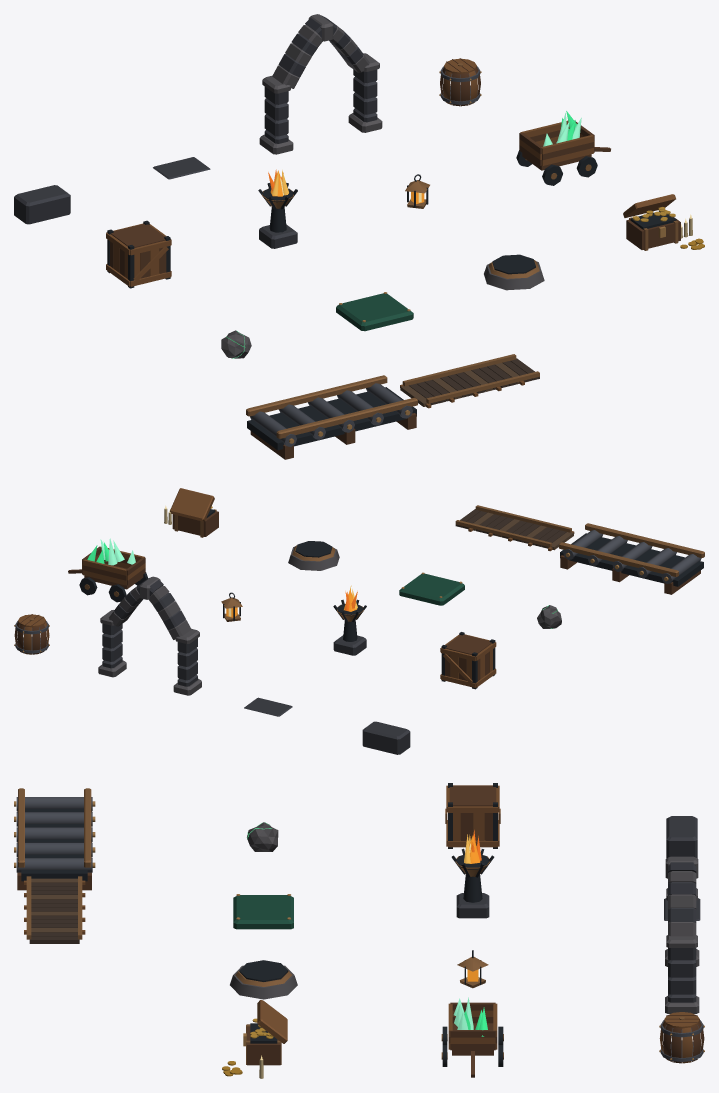
File: dungeon-model-kit.glb
The picture shows the model from 3 angles, top to bottom: view 1: azimuth 30°, elevation 25°; view 2: azimuth 150°, elevation 25°; view 3: azimuth 270°, elevation 25°; orthographic projection. The views are drawn at different scales.
Parts seen in each view (by area): view 1: iron-timber-conveyor-chassis, gothic-pointed-stone-arch, bronze-railed-snake-track, emerald-mine-cart, braced-timber-crate, brass-treasure-and-candles, jade-worker-pad, iron-crown-fire-brazier, wall-stone, coopered-ironbound-barrel, octagonal-storage-plinth, flagstone; view 2: iron-timber-conveyor-chassis, gothic-pointed-stone-arch, bronze-railed-snake-track, emerald-mine-cart, braced-timber-crate, brass-treasure-and-candles, jade-worker-pad, iron-crown-fire-brazier, wall-stone, coopered-ironbound-barrel, octagonal-storage-plinth, flagstone (+1 smaller); view 3: iron-timber-conveyor-chassis, gothic-pointed-stone-arch, bronze-railed-snake-track, braced-timber-crate, emerald-mine-cart, brass-treasure-and-candles, jade-worker-pad, iron-crown-fire-brazier, octagonal-storage-plinth, coopered-ironbound-barrel, wall-stone, green-veined-ore (+1 smaller).
Part boxes in pixels (x1,y1,x2,y2): iron-timber-conveyor-chassis: (246, 375, 417, 459); gothic-pointed-stone-arch: (259, 14, 382, 154); bronze-railed-snake-track: (400, 354, 539, 408); emerald-mine-cart: (516, 111, 610, 185); braced-timber-crate: (106, 220, 171, 288); brass-treasure-and-candles: (623, 194, 704, 250); jade-worker-pad: (336, 292, 413, 331); iron-crown-fire-brazier: (258, 169, 297, 248); wall-stone: (14, 185, 70, 224); coopered-ironbound-barrel: (439, 58, 481, 106); octagonal-storage-plinth: (484, 254, 544, 290); flagstone: (153, 157, 210, 179); iron-timber-conveyor-chassis: (559, 523, 704, 594); gothic-pointed-stone-arch: (98, 576, 201, 695); bronze-railed-snake-track: (455, 505, 574, 551); emerald-mine-cart: (68, 538, 148, 602); braced-timber-crate: (440, 632, 496, 689); brass-treasure-and-candles: (164, 488, 218, 537); jade-worker-pad: (399, 572, 464, 605); iron-crown-fire-brazier: (333, 585, 366, 655); wall-stone: (362, 721, 410, 754); coopered-ironbound-barrel: (14, 614, 49, 654); octagonal-storage-plinth: (288, 541, 339, 570); flagstone: (244, 697, 292, 716); iron-timber-conveyor-chassis: (14, 788, 95, 890); gothic-pointed-stone-arch: (665, 856, 699, 1013); bronze-railed-snake-track: (24, 876, 85, 943); braced-timber-crate: (445, 783, 500, 848); emerald-mine-cart: (441, 997, 503, 1077); brass-treasure-and-candles: (222, 1000, 287, 1078); jade-worker-pad: (233, 894, 293, 929); iron-crown-fire-brazier: (451, 830, 494, 918); octagonal-storage-plinth: (230, 960, 297, 999); coopered-ironbound-barrel: (659, 1012, 704, 1063); wall-stone: (666, 816, 697, 858); green-veined-ore: (247, 822, 278, 851).
Bounding box in the file's own units: 9.71 × 2.27 × 9.91.
